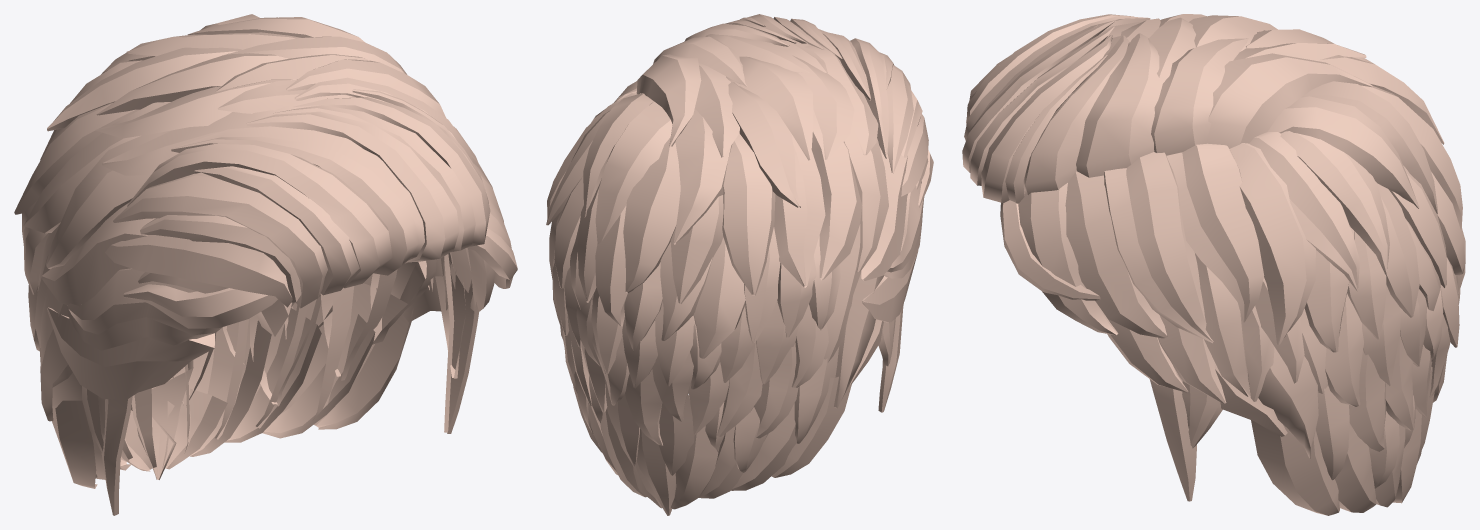
The model's file is Hair_15.fbx.
The picture shows the model from 3 angles, left to right: view 1: azimuth 30°, elevation 25°; view 2: azimuth 150°, elevation 25°; view 3: azimuth 270°, elevation 25°; orthographic projection. The views are drawn at different scales.
Visible parts, largest first — view 1: Hair_15; view 2: Hair_15; view 3: Hair_15.
Boxes of the visible parts, x1=… form: Hair_15: x1=14, y1=14, x2=517, y2=515; Hair_15: x1=546, y1=14, x2=933, y2=515; Hair_15: x1=962, y1=14, x2=1465, y2=515.
Bounding box in the file's own units: 1.83 × 2.27 × 2.19.
